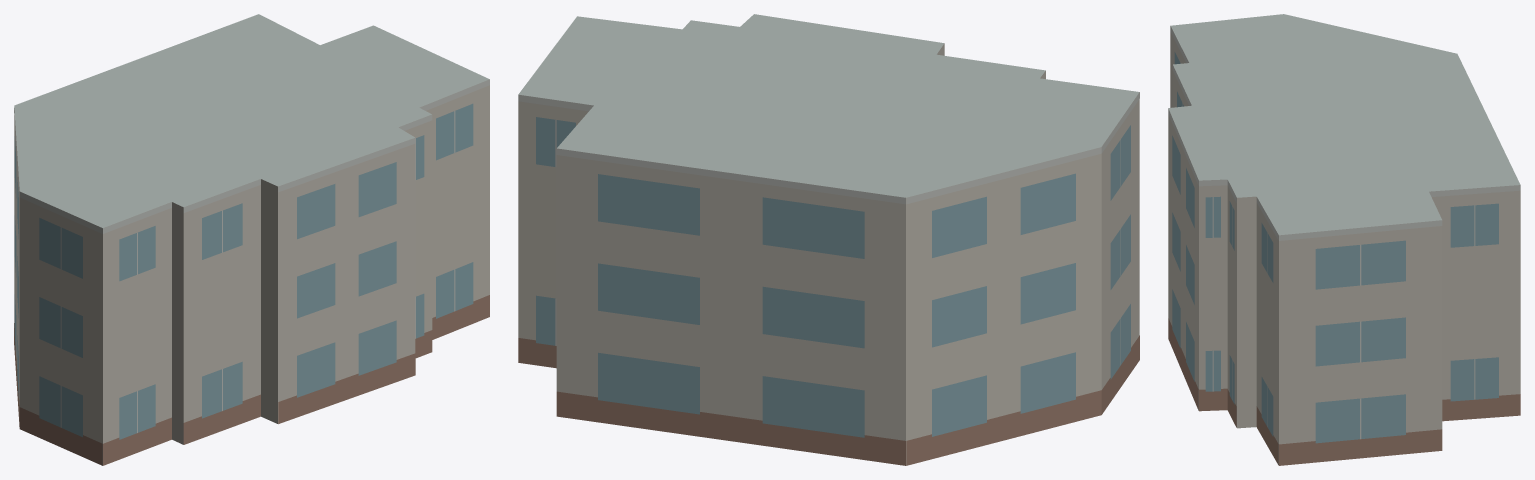
The model's file is survey-upis-32956301.glb.
3 renders of one model, left to right at view 1: azimuth 30°, elevation 25°; view 2: azimuth 150°, elevation 25°; view 3: azimuth 270°, elevation 25°, orthographic. The views are drawn at different scales.
Parts seen in each view (by area): view 1: survey-upis-32956301.tmp; view 2: survey-upis-32956301.tmp; view 3: survey-upis-32956301.tmp.
Part boxes in pixels (x1,y1,x2,y2): survey-upis-32956301.tmp: (14,14,489,465); survey-upis-32956301.tmp: (518,14,1139,465); survey-upis-32956301.tmp: (1168,14,1520,465).
Size of the model in its own units: 20.29 by 9.85 by 13.65.
